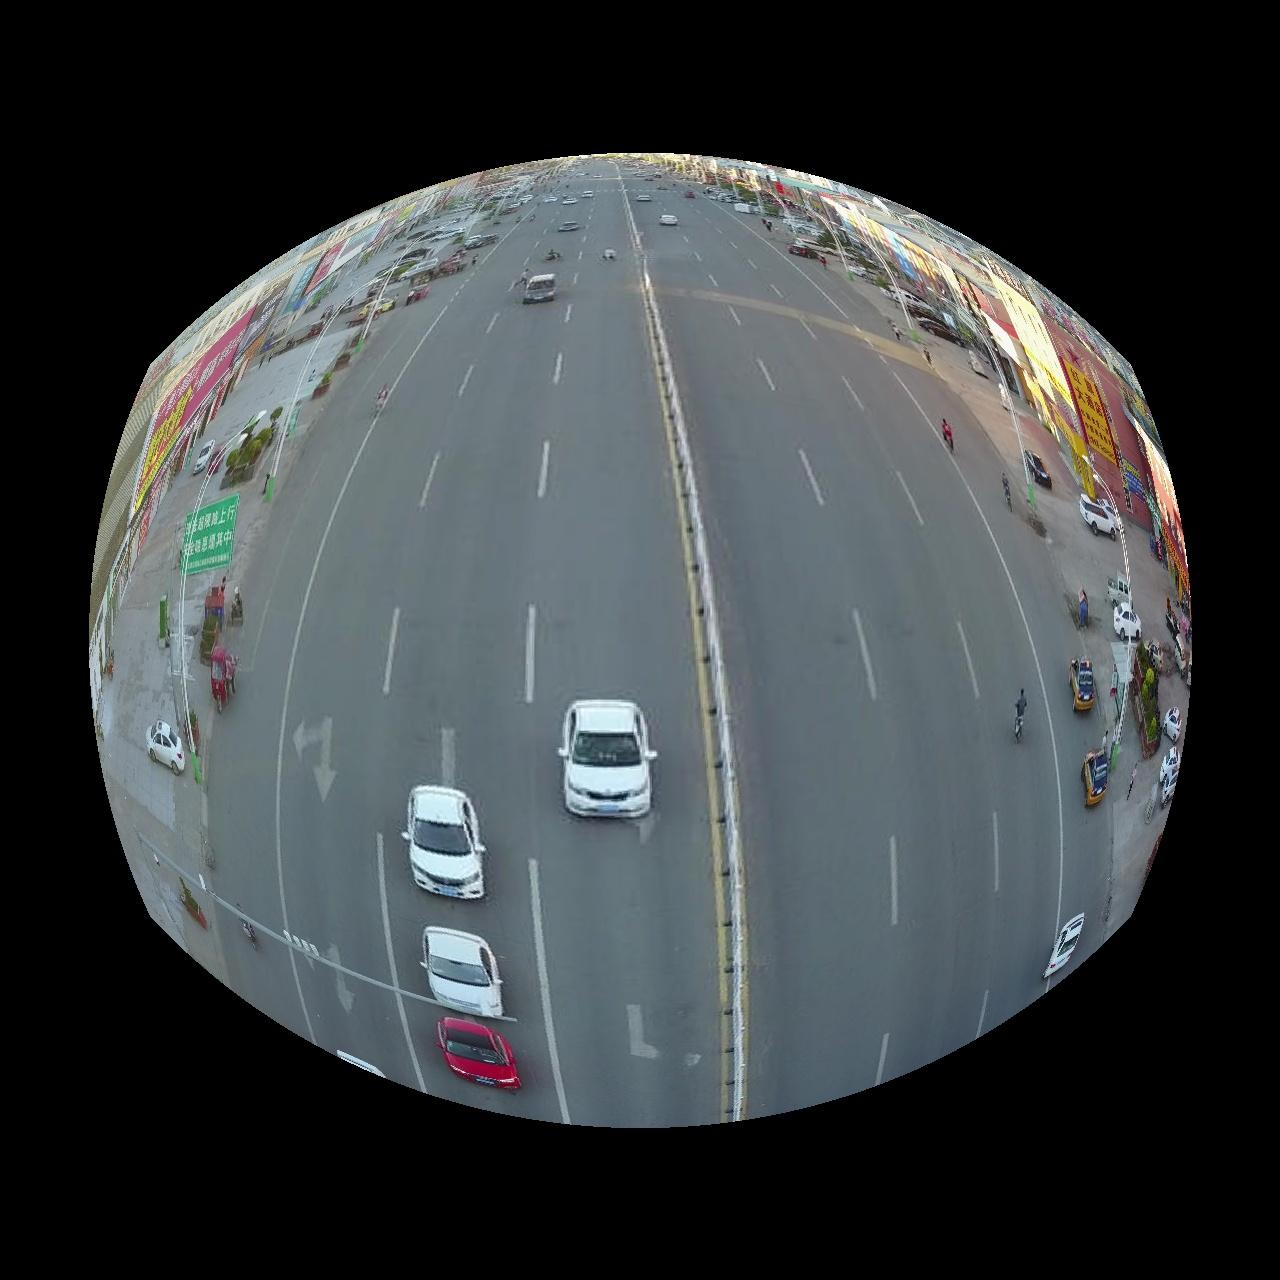building: (89, 301, 251, 708), (992, 266, 1151, 524)
cars: (557, 700, 658, 818), (402, 787, 486, 900), (421, 928, 502, 1020), (436, 1019, 520, 1090), (1044, 914, 1087, 980), (145, 721, 185, 776), (1084, 751, 1112, 808), (1073, 658, 1097, 713), (523, 273, 554, 302)
